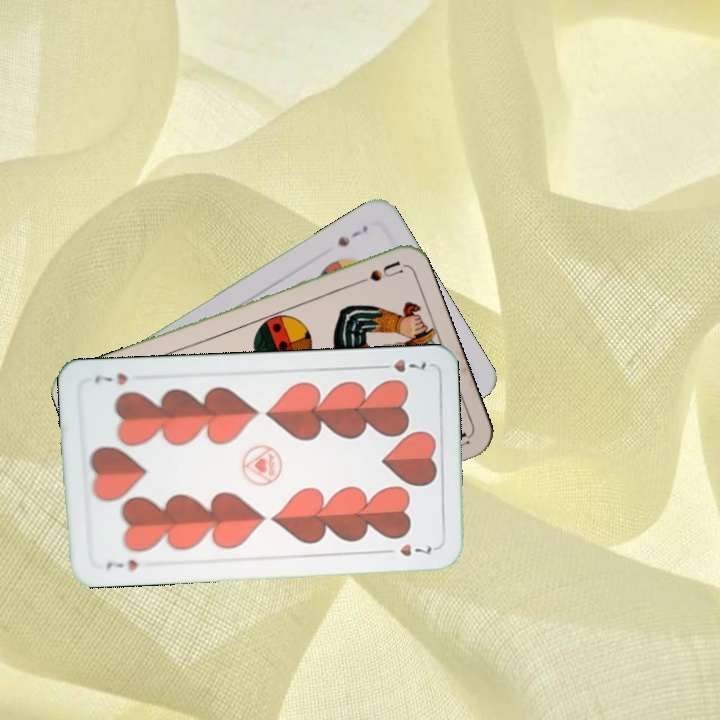H7: (372, 354, 430, 375), (102, 555, 140, 573)
S7: (333, 221, 371, 250)
SU: (346, 257, 405, 289)
